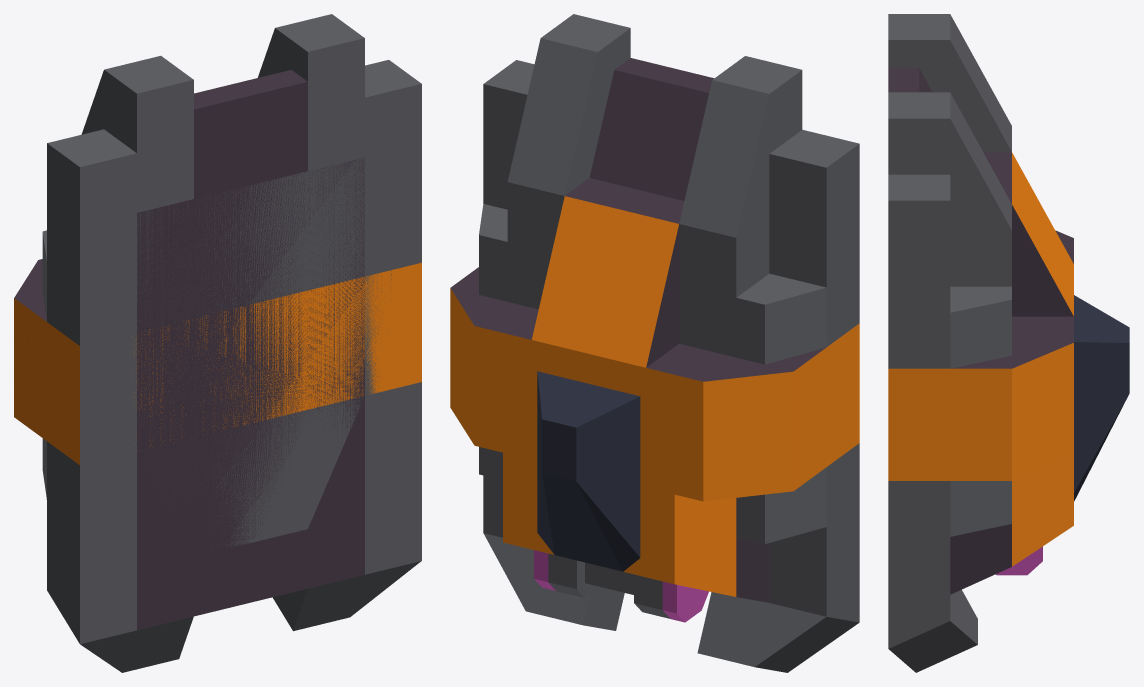
File: enemy.fbx
3 views of the same model, side by side, from view 1: azimuth 30°, elevation 25°; view 2: azimuth 150°, elevation 25°; view 3: azimuth 270°, elevation 25° (orthographic). The views are drawn at different scales.
Visible parts, largest first — view 1: foot_skiLow, foot_double; view 2: foot_double, foot_skiLow, window_small, socket_medium; view 3: foot_double, foot_skiLow, window_small, socket_medium.
Boxes of the visible parts, box(x1,y1,x2,y2) form: foot_skiLow: box(42, 60, 421, 672); foot_double: box(14, 14, 421, 547); foot_double: box(450, 14, 859, 501); foot_skiLow: box(479, 60, 859, 672); window_small: box(537, 371, 640, 571); socket_medium: box(534, 550, 708, 622); foot_double: box(888, 14, 1073, 480); foot_skiLow: box(888, 152, 1073, 672); window_small: box(1074, 295, 1129, 501); socket_medium: box(996, 546, 1042, 575).
Size of the model in its own units: 6 by 9.89 by 3.9.
1 material, 1 textured.
